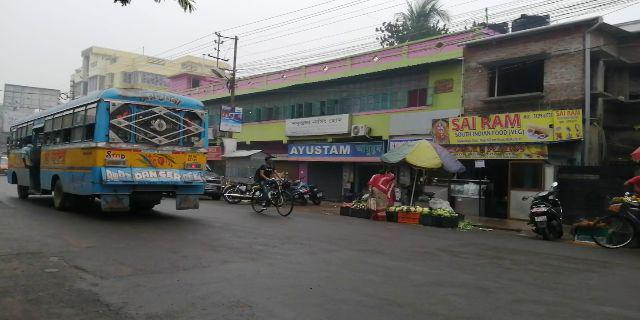Bus: (9, 86, 214, 211)
Cycle: (247, 158, 299, 218)
